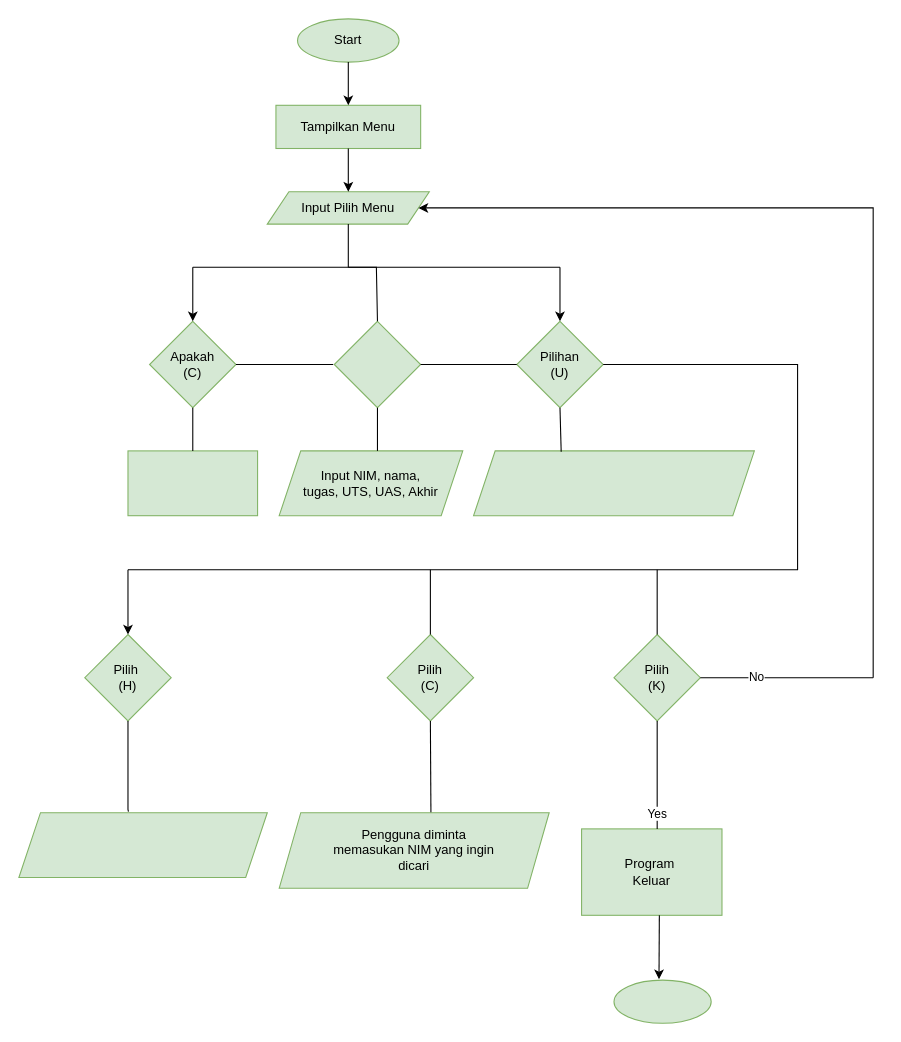
Some shapes in this 901 by 1042 pixel diagram are drawn without their labels. The shapes that lost their labels are listed below. From the top down, each one's centre as x and y in pixels, then its label:
(x=377, y=364): Pilihan (T)
(x=192, y=483): menampilkan data yang ada
(x=613, y=483): Pengguna diminta memasukan NIM yang ingin di ubah
(x=142, y=845): Pengguna diminta memasukan NIM yang di ingin di hapus
(x=662, y=1001): END
